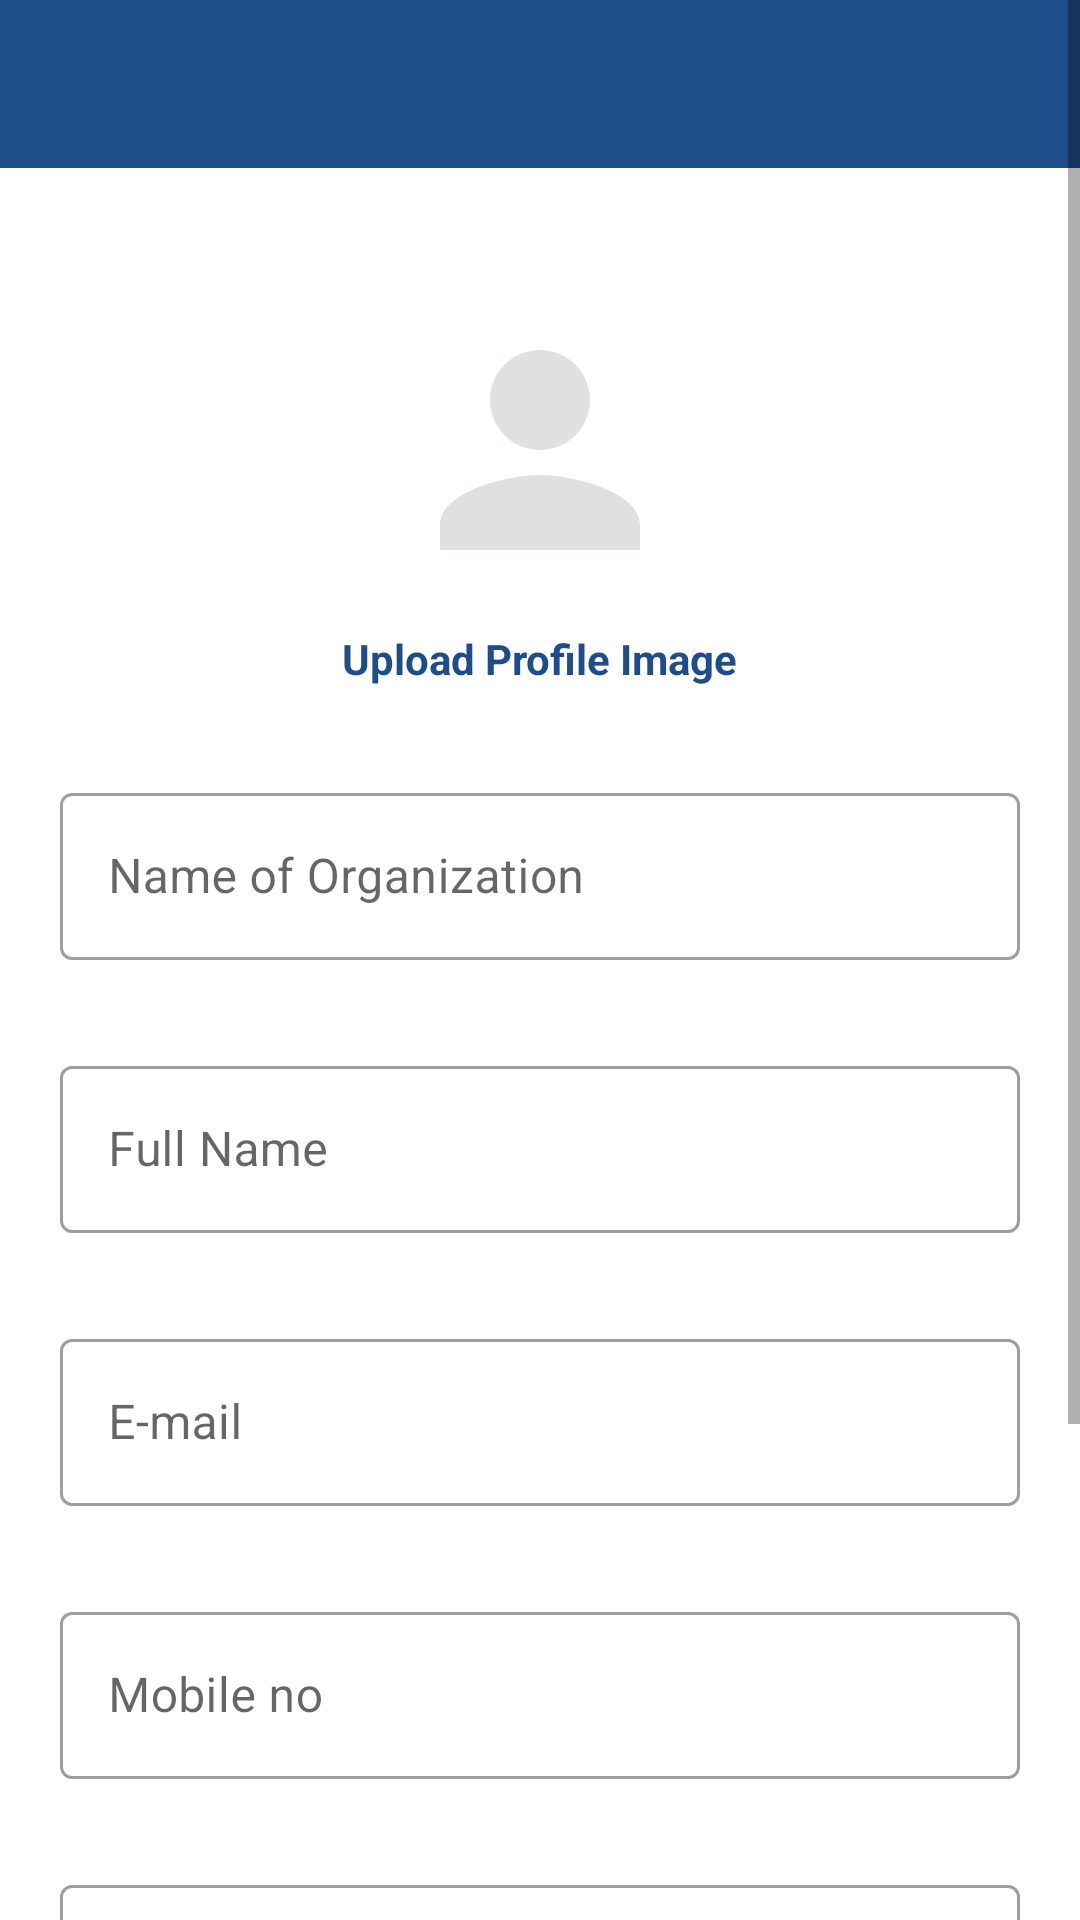

Point at icon controls on the screen. Image size 1080px×1920px, points as [x,y].
empty profile: [540,450]
